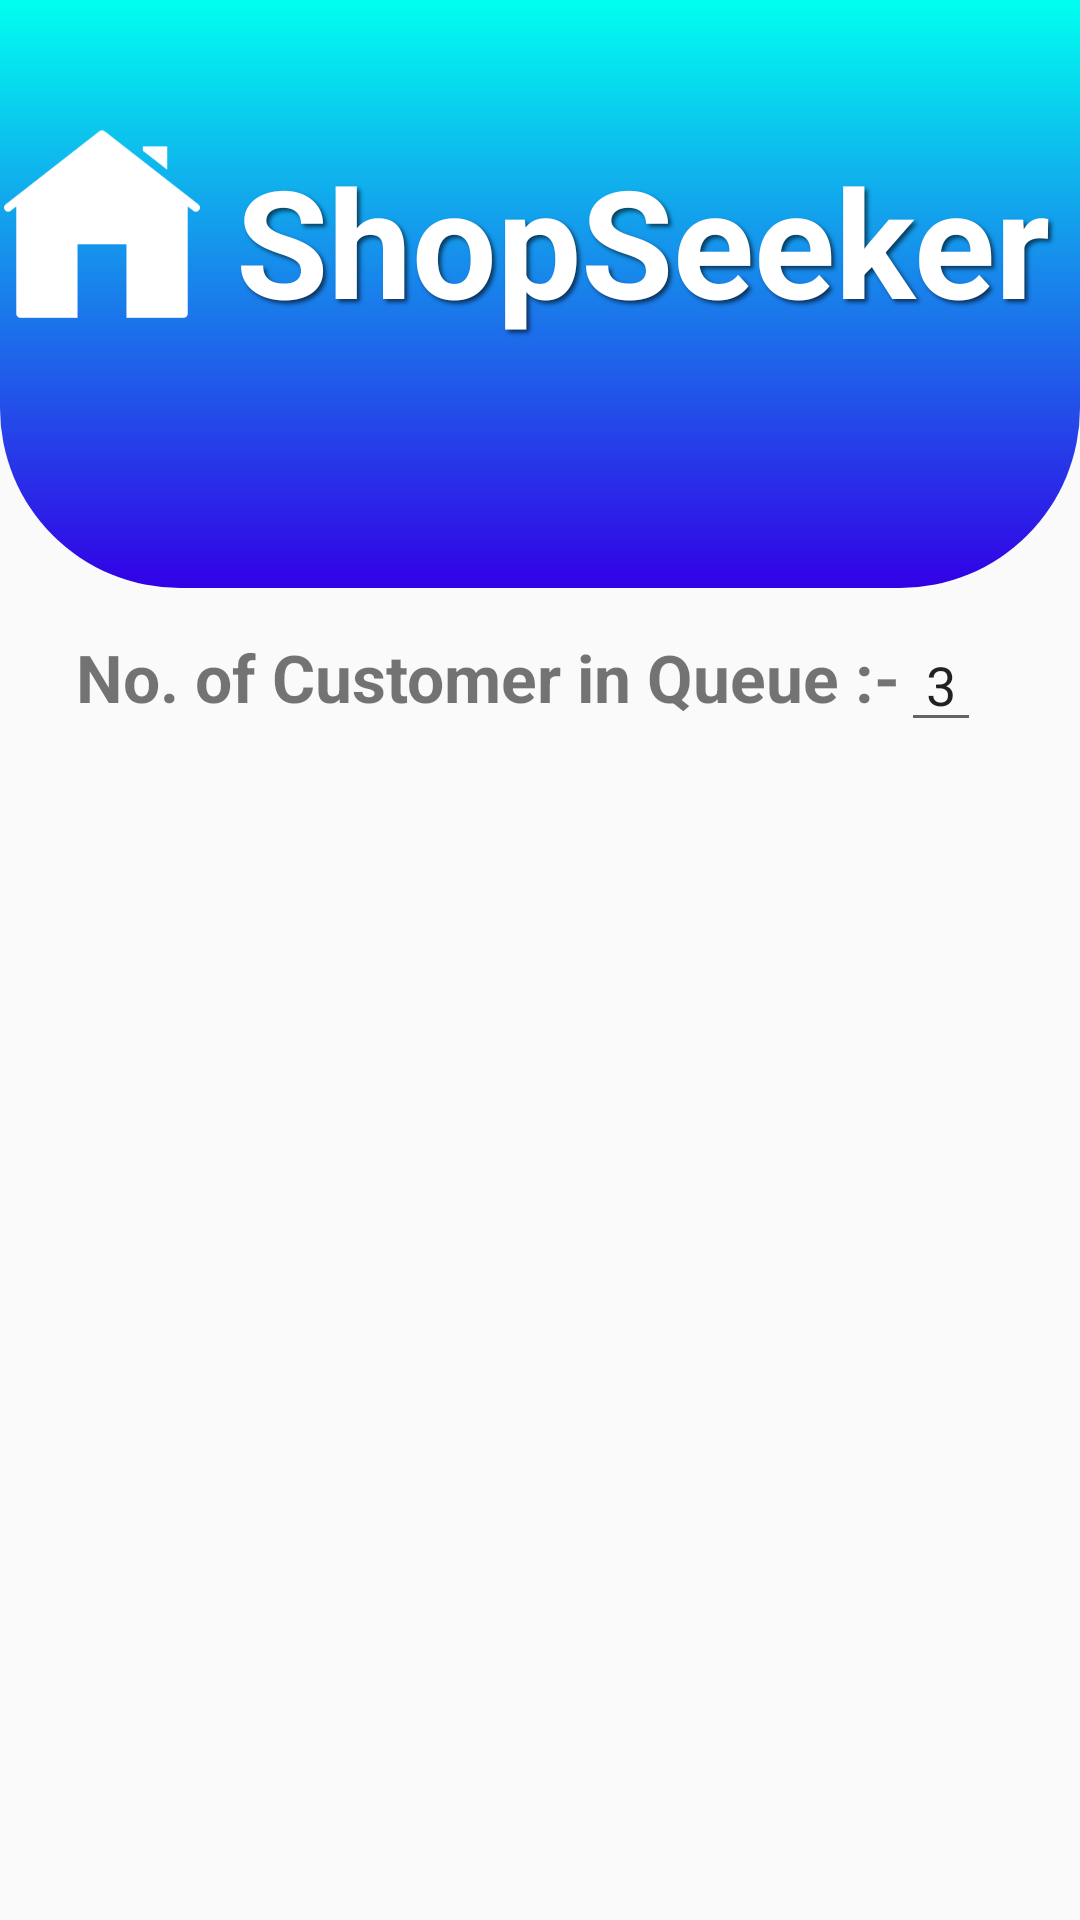

Icons on this 1080px×1920px Android screen, each with the point to tap as [x,y]:
House: [102,228]
